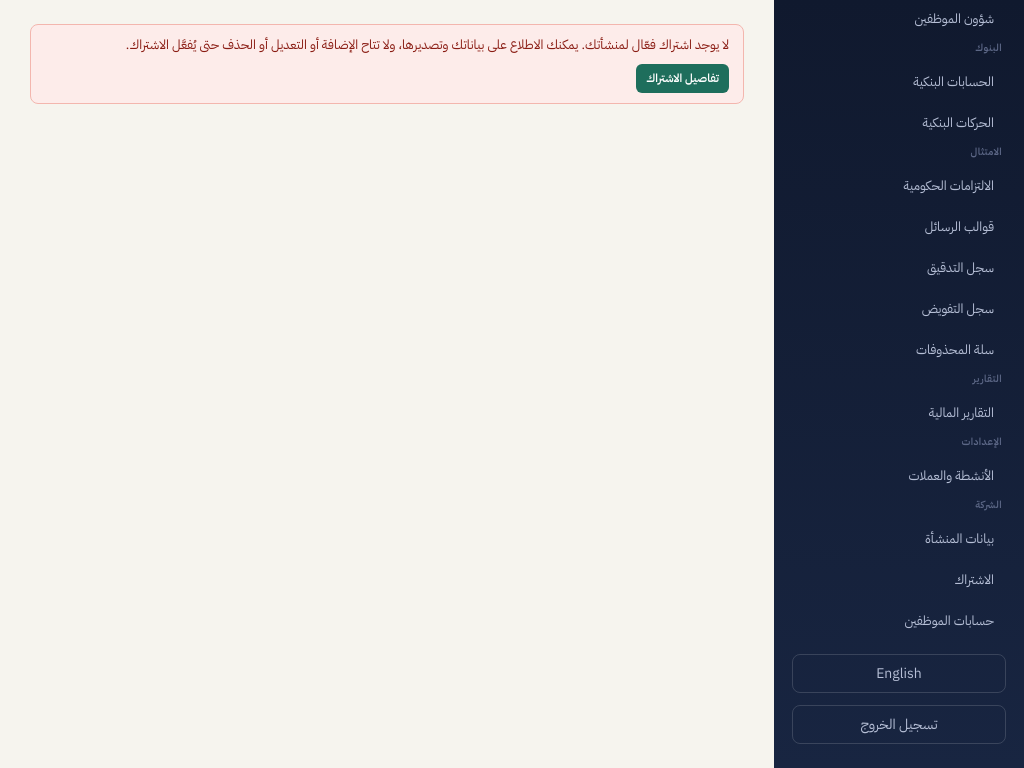
Scenario: AppShell frozen banner › says the same in English
(page scrolled)
Click the button "English": (899, 674) [792, 654, 1006, 693]
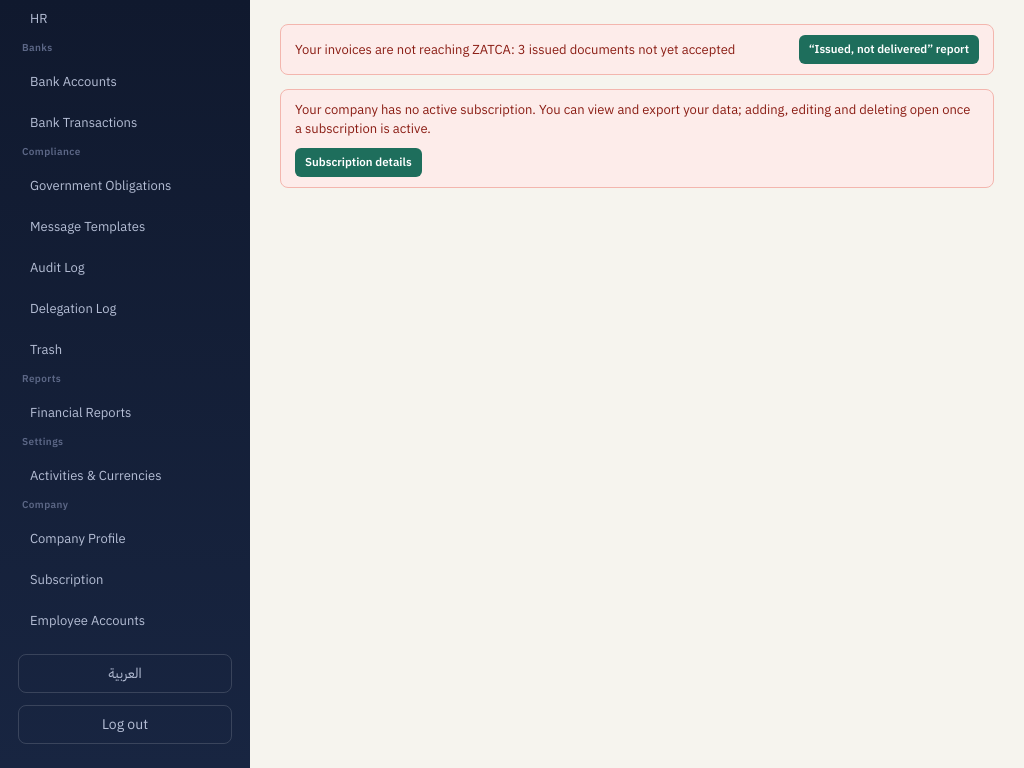
Now the text "Your company has no active subscription. You can view and export your data; adding, editing and deleting open once a sub" is shown, box [295, 100, 970, 138]
Now the link "Subscription details" is shown, box [295, 148, 422, 177]
